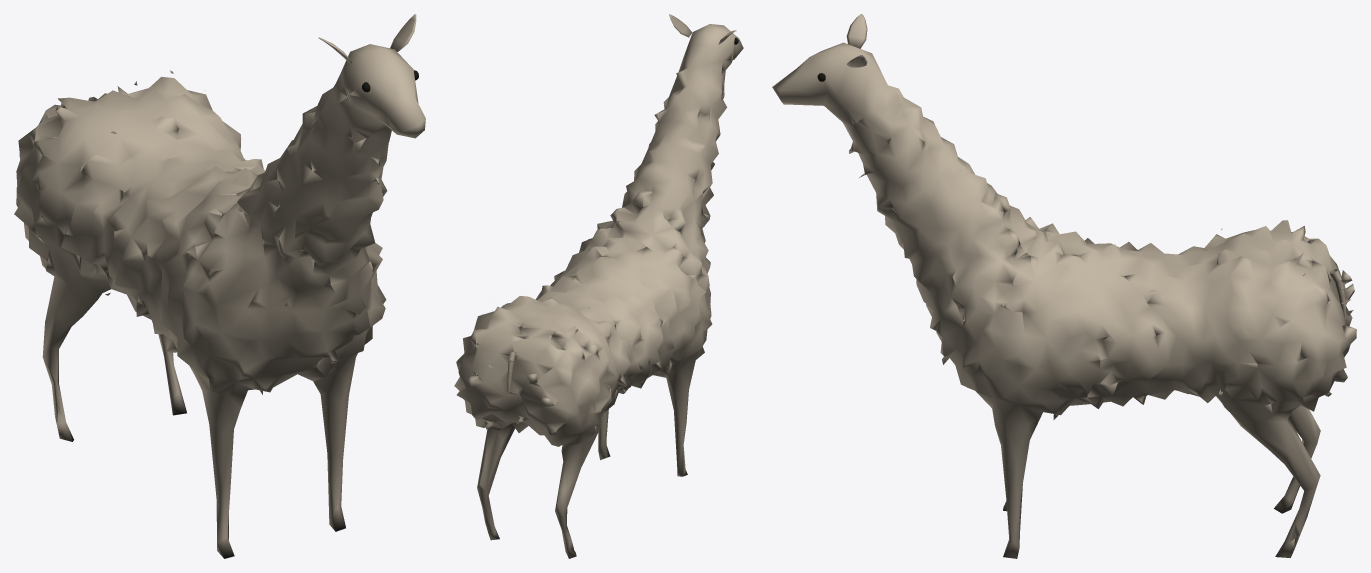
The model's file is alpaka.glb.
The picture shows the model from 3 angles, left to right: view 1: azimuth 30°, elevation 25°; view 2: azimuth 150°, elevation 25°; view 3: azimuth 270°, elevation 25°; orthographic projection. The views are drawn at different scales.
Parts seen in each view (by area): view 1: lack; view 2: lack; view 3: lack.
Boxes of the visible parts, bbox=[...] form: lack: bbox=[14, 14, 425, 558]; lack: bbox=[454, 14, 743, 558]; lack: bbox=[772, 14, 1356, 558].
Bounding box in the file's own units: 0.5753 × 1.54 × 1.63.
